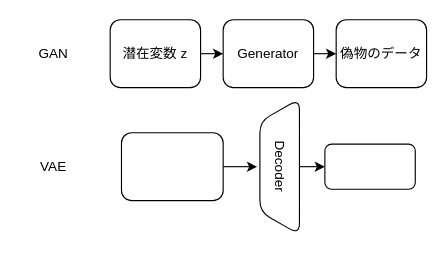
The diagram is 446 pixels wide and 254 high, and some of its shapes have lost their labels. Each missing label, with the centre of its shape:
出力データ: (369,166)
潜在変数 z z ~ N(0, 1): (171,166)
